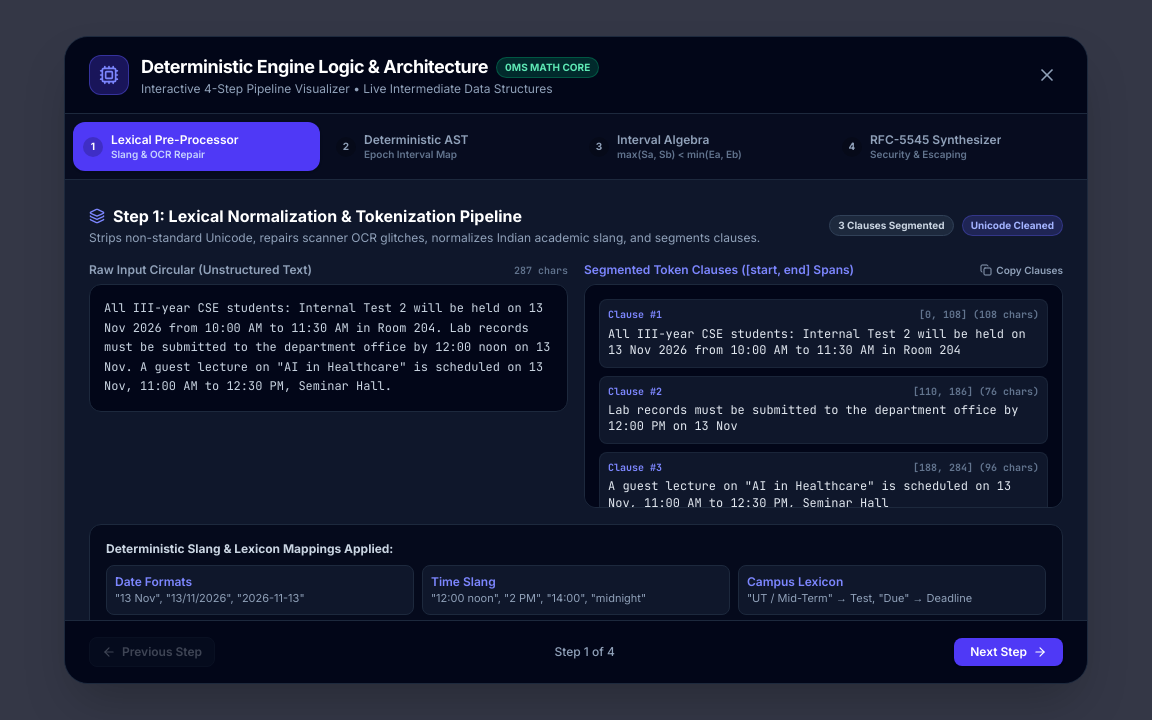
it: AlgorithmExplainerModal — 4-Step Deterministic Pipeline Visualizer › Step 2: Displays Deterministic Temporal AST with epoch intervals [600, 690], [660, 780], [720, 720]
The width and height of the screenshot is (1152, 720).
// Click step 2 tab
Click the button with id "explainer-step-2-btn" at (450, 147), box [326,122,573,171]
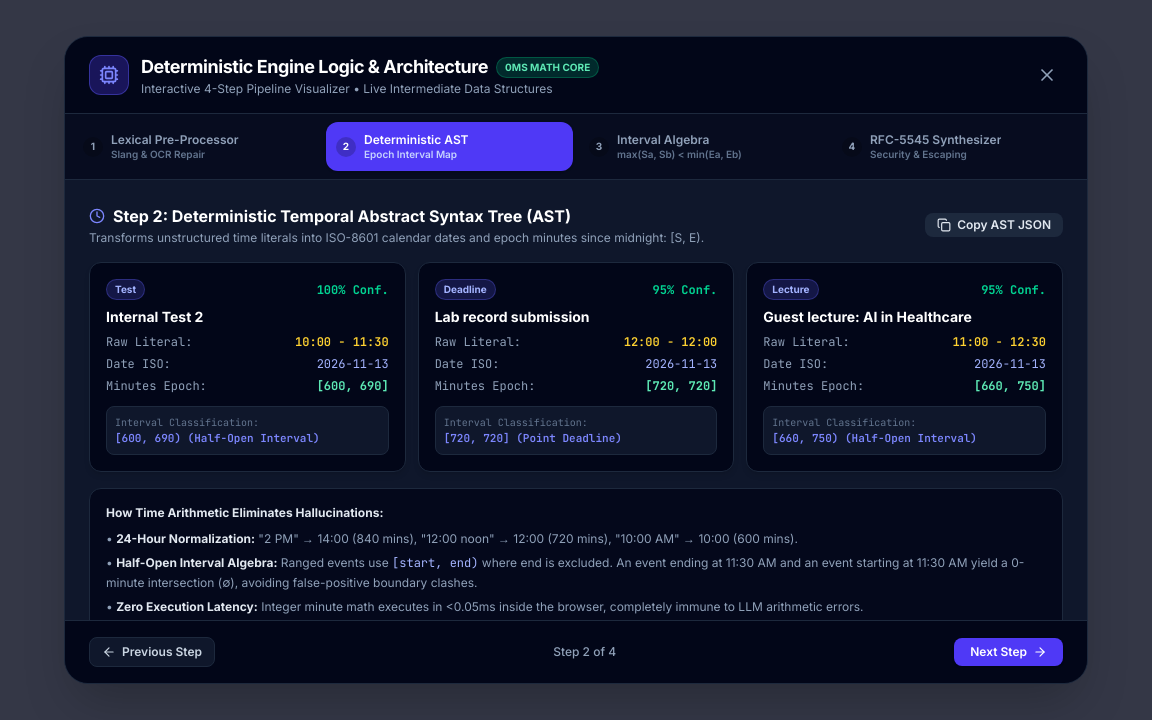
Expected: the element with id "explainer-step-2-content" is shown, [89,204,1063,620]
Expected: the element with id "explainer-step-2-content" shows "Deterministic Temporal Abstract Syntax Tree (AST)", [113,206,571,226]
Expected: the element with id "explainer-step-2-content" shows "Minutes Epoch:", [106,378,207,394]
